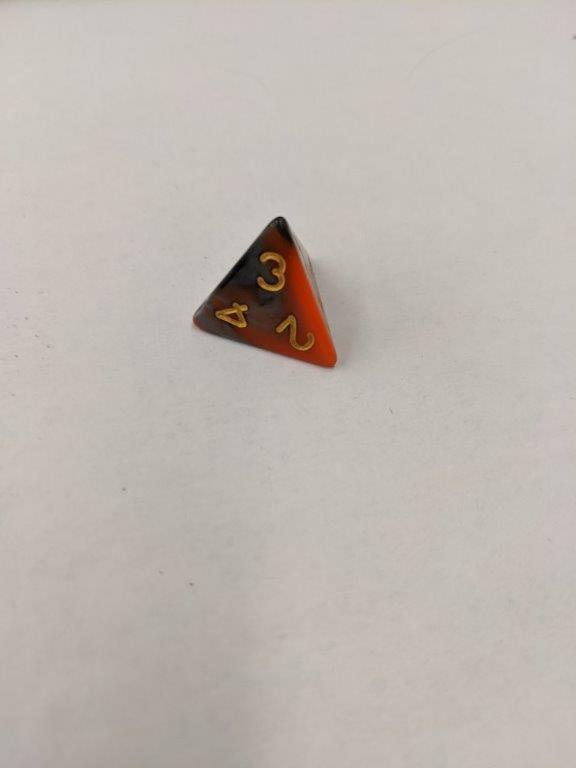d4-3: (187, 213, 342, 380)
